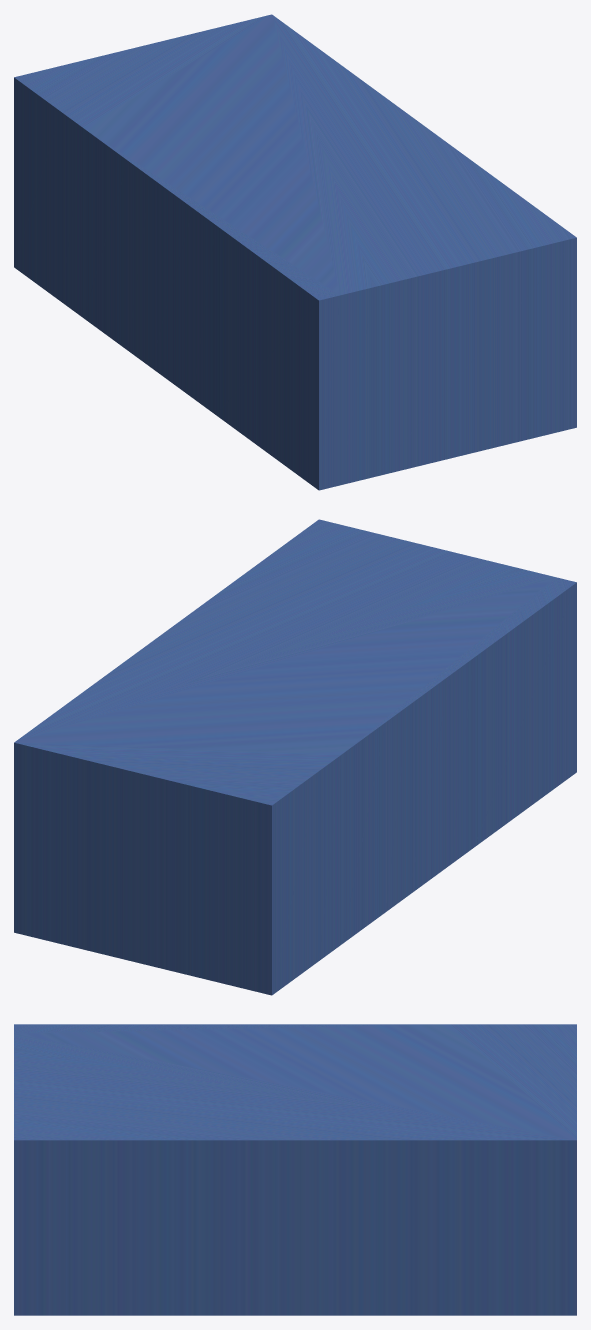
The model's file is 1012_TYGYDCD.glb.
The picture shows the model from 3 angles, top to bottom: view 1: azimuth 30°, elevation 25°; view 2: azimuth 150°, elevation 25°; view 3: azimuth 270°, elevation 25°; orthographic projection. The views are drawn at different scales.
Parts seen in each view (by area): view 1: 1012; view 2: 1012; view 3: 1012.
Part boxes in pixels (x1,y1,x2,y2): 1012: (14, 14, 576, 490); 1012: (14, 519, 576, 995); 1012: (14, 1024, 576, 1315).
Size of the model in its own units: 57.23 by 40.27 by 117.
1 material, 1 textured.
